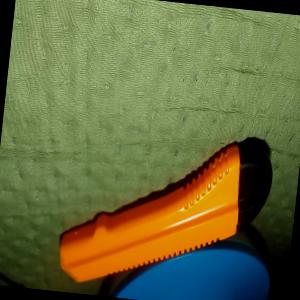estilete: (54, 122, 275, 300)
